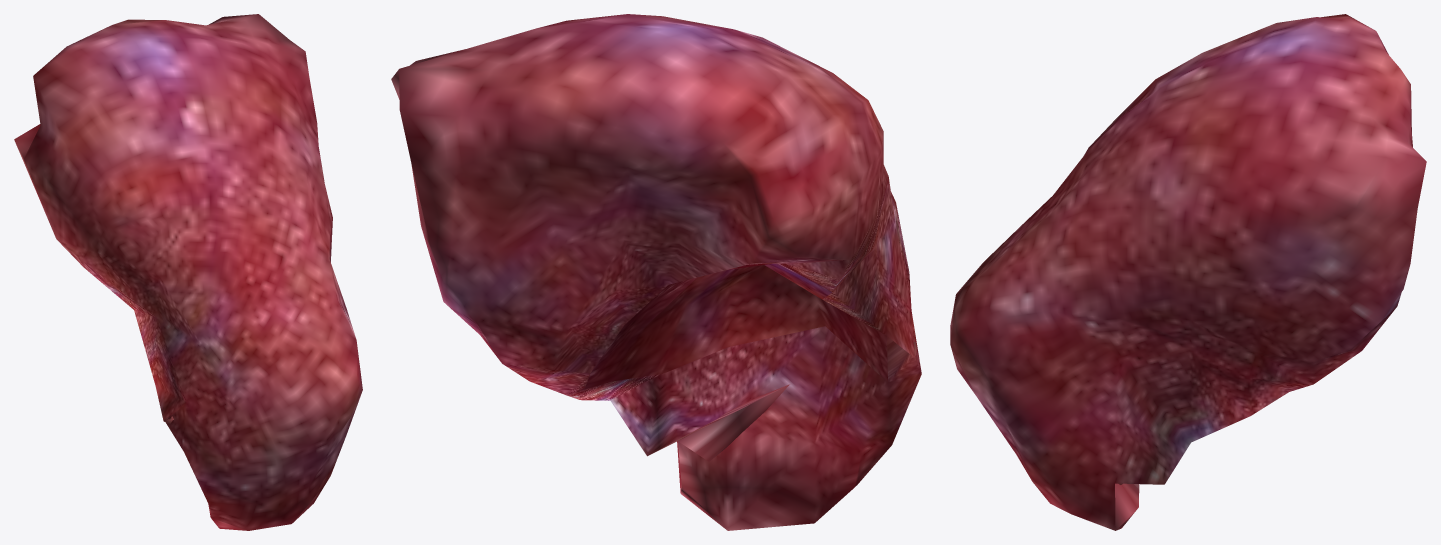
3 renders of one model, left to right at view 1: azimuth 30°, elevation 25°; view 2: azimuth 150°, elevation 25°; view 3: azimuth 270°, elevation 25°, orthographic. The views are drawn at different scales.
Visible parts, largest first — view 1: Muscle7; view 2: Muscle7; view 3: Muscle7.
Boxes of the visible parts, bbox=[...] form: Muscle7: bbox=[14, 14, 362, 530]; Muscle7: bbox=[391, 14, 921, 530]; Muscle7: bbox=[950, 14, 1426, 530].
Bounding box in the file's own units: 0.0272 × 0.0389 × 0.0356.
